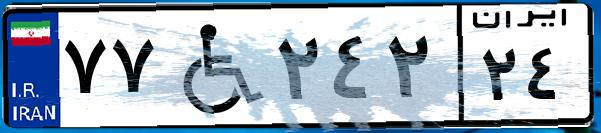2: (270, 28, 330, 110), (385, 28, 445, 110), (475, 38, 525, 113)
4: (330, 28, 385, 110), (525, 38, 570, 115)
7: (57, 26, 110, 100), (110, 28, 158, 98)
ژ (معلولین و جانبازان): (158, 12, 270, 120)
